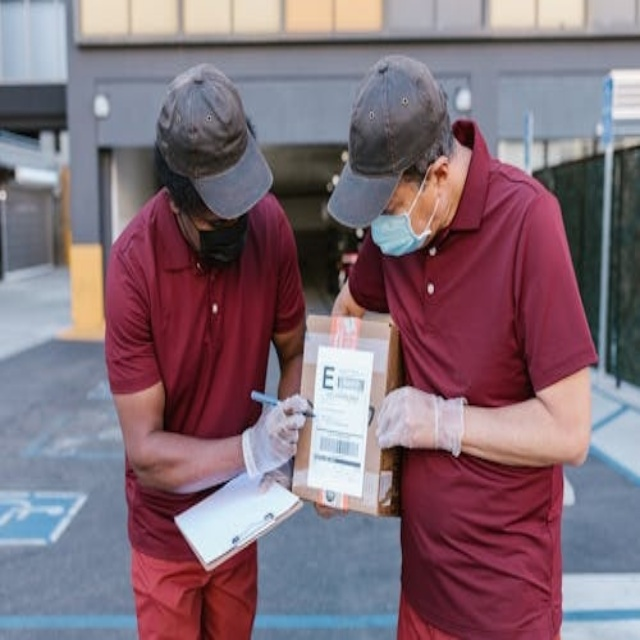Guantes: (374, 385, 466, 456), (241, 396, 308, 480)
Mascara: (370, 165, 440, 256), (187, 204, 248, 266)
